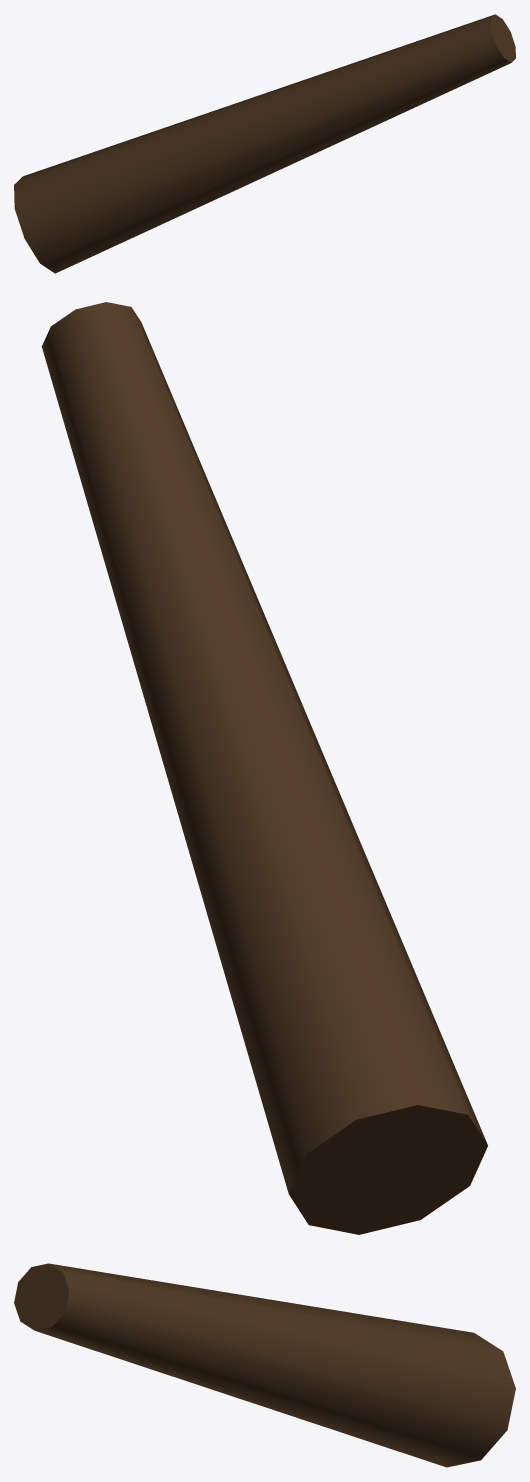
File: root-northeast.glb
3 renders of one model, top to bottom at view 1: azimuth 30°, elevation 25°; view 2: azimuth 150°, elevation 25°; view 3: azimuth 270°, elevation 25°, orthographic. The views are drawn at different scales.
Parts seen in each view (by area): view 1: Root northeast; view 2: Root northeast; view 3: Root northeast.
Boxes of the visible parts, box(x1,y1,x2,y2) form: Root northeast: box(14, 14, 515, 273); Root northeast: box(41, 302, 487, 1234); Root northeast: box(14, 1263, 515, 1467).
Bounding box in the file's own units: 22.34 × 17.4 × 20.67.
